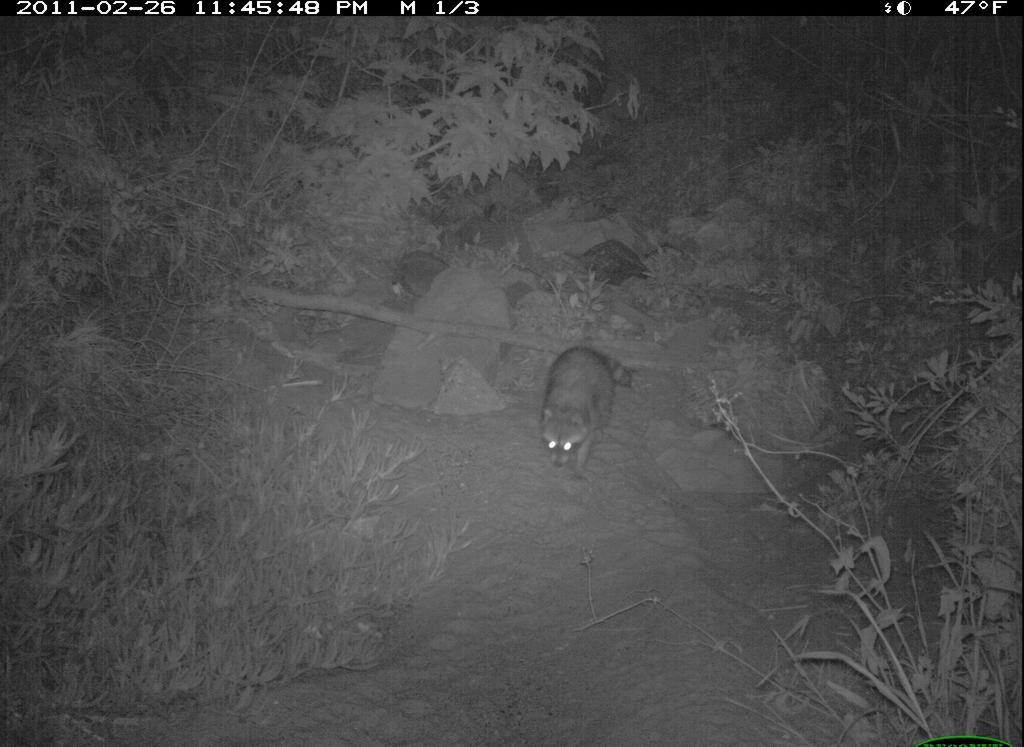raccoon: (541, 345, 626, 491)
